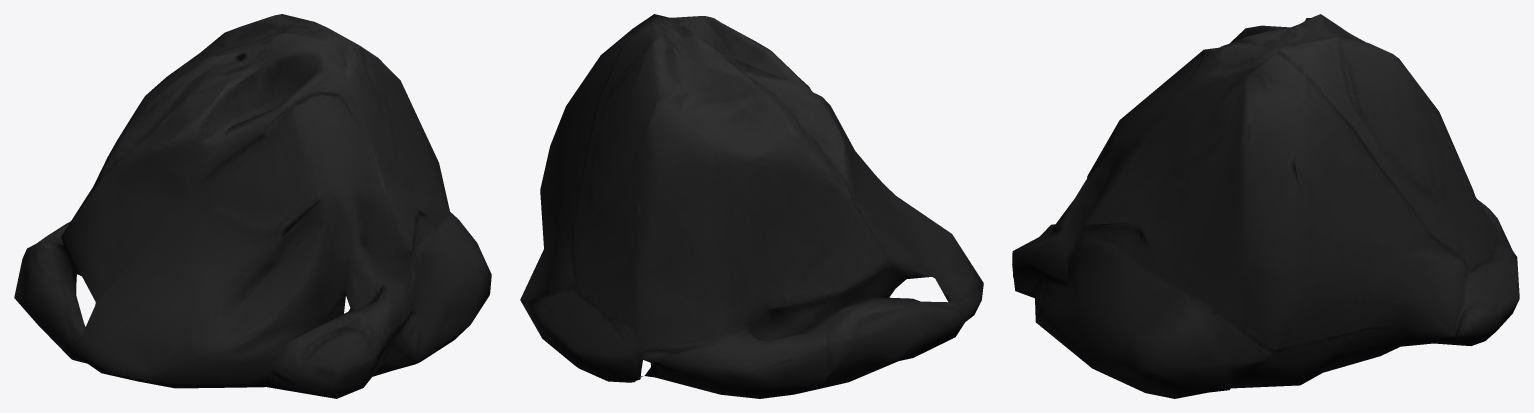
Rendered from bodybag.glb.
3 renders of one model, left to right at view 1: azimuth 30°, elevation 25°; view 2: azimuth 150°, elevation 25°; view 3: azimuth 270°, elevation 25°, orthographic. The views are drawn at different scales.
Parts seen in each view (by area): view 1: bodybag; view 2: bodybag; view 3: bodybag.
Part boxes in pixels (box(x1,y1,x2,y2)): bodybag: box(14, 14, 491, 398); bodybag: box(520, 14, 983, 398); bodybag: box(1012, 14, 1519, 398).
Size of the model in its own units: 0.9958 by 0.6461 by 0.9882.
1 material, 1 textured.
